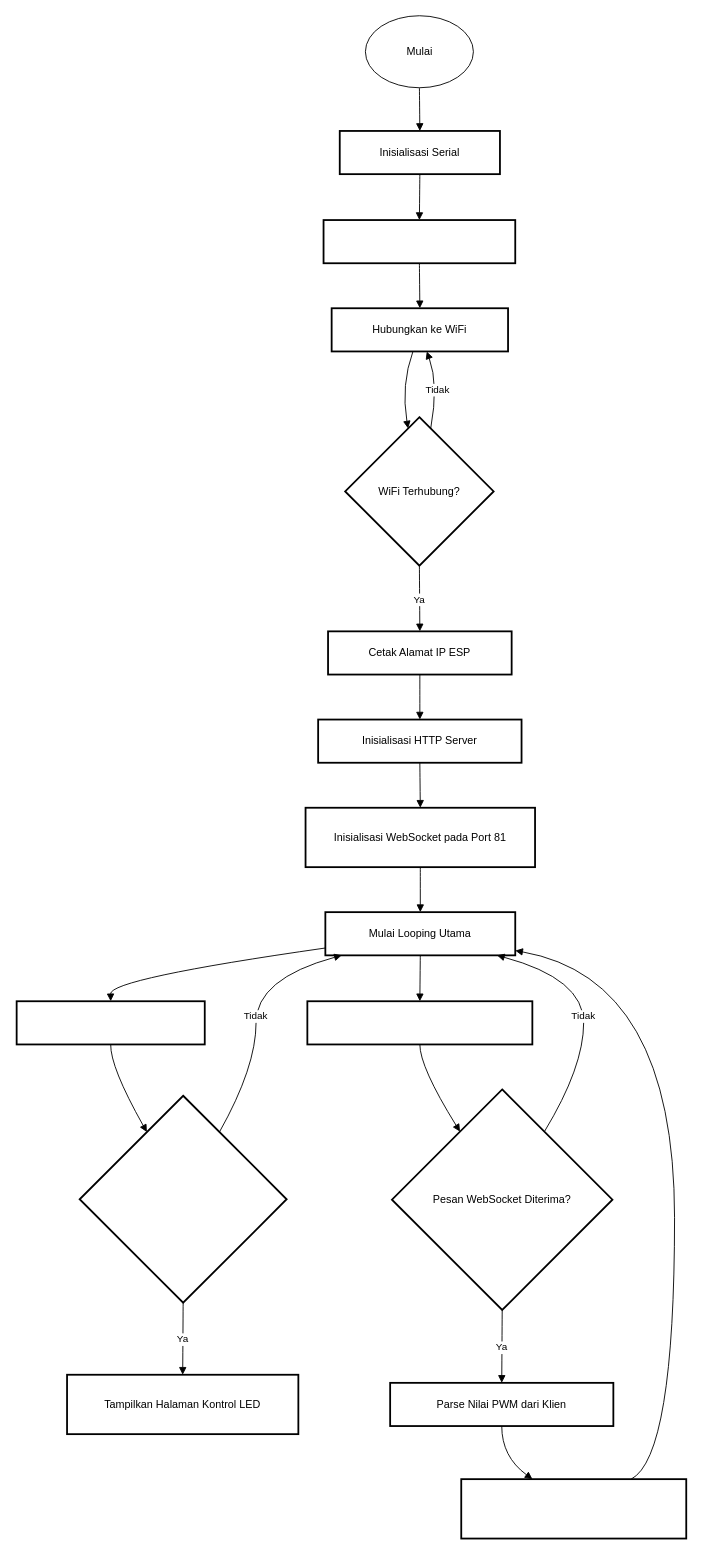
Image size: 702x1555. Some labels were removed from this diagram. The shapes that lost their labels are listed below. From the top down, each one's centre as x and y in pixels, then its label:
At pixel 419 241: "Inisialisasi Pin LED D8".
At pixel 110 1022: "Proses HTTP Request".
At pixel 419 1022: "Proses WebSocket Message".
At pixel 182 1198: "Request Halaman Utama?".
At pixel 573 1508: "Set Kecerahan LED dengan PWM".
